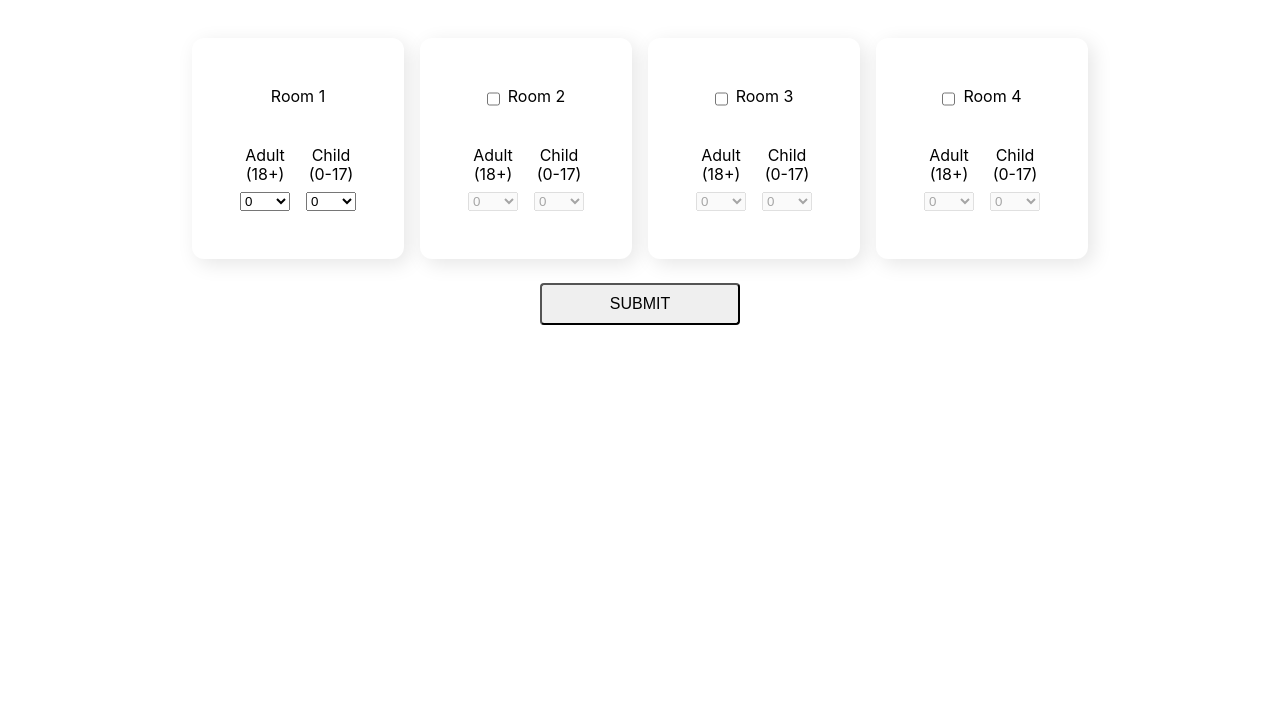
Scenario: changes useState of Submitted to true, and renders user data
Click the button with test id "app-button-submit". click: (640,304)
box: [540, 283, 740, 325]
(page scrolled)
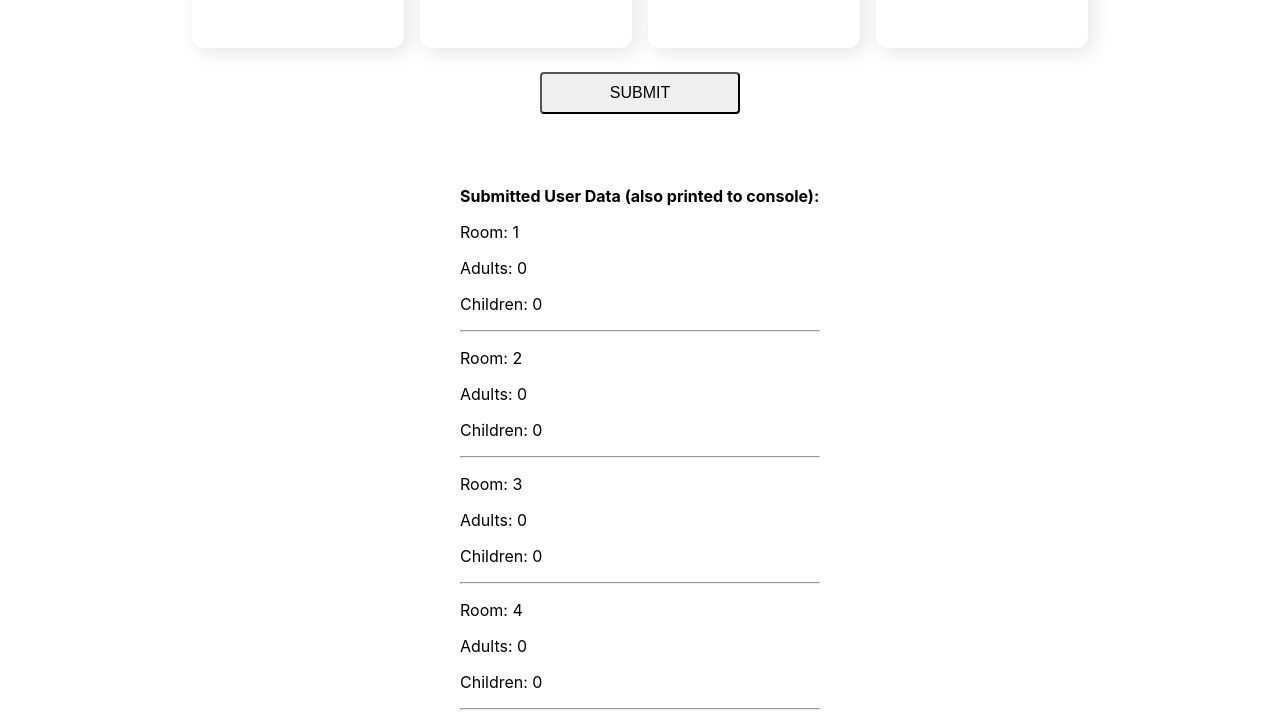
Expected: the element with test id "app-div-data" shows "Submitted User Data", [460, 186, 819, 206]
